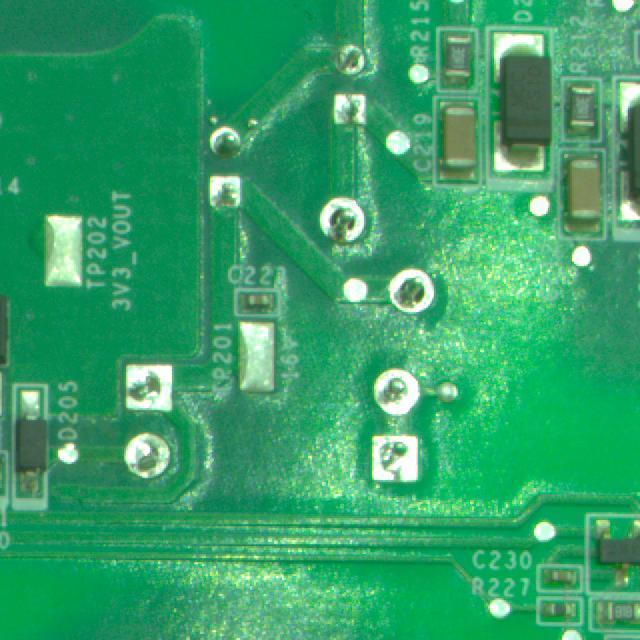Insufficient solder: (363, 426, 429, 503), (306, 186, 370, 259), (110, 359, 185, 411), (371, 360, 430, 417), (389, 263, 438, 325), (113, 432, 180, 477), (200, 119, 253, 166), (204, 171, 255, 216), (330, 39, 369, 85)
